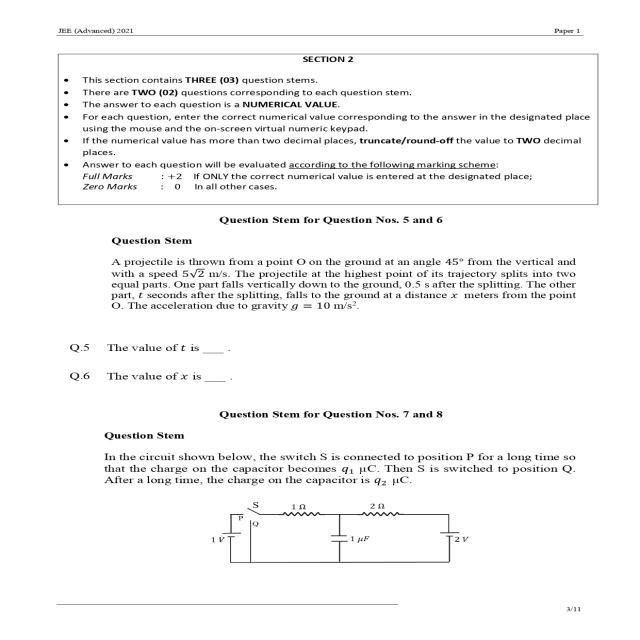Instruction: (45, 408, 619, 572), (59, 52, 600, 210), (45, 232, 619, 328)
Question_Answer_Block: (45, 363, 619, 392), (45, 334, 619, 362)
Question_Block: (45, 363, 619, 392), (45, 334, 619, 362)
Question_Paper_Area: (45, 39, 619, 588)
